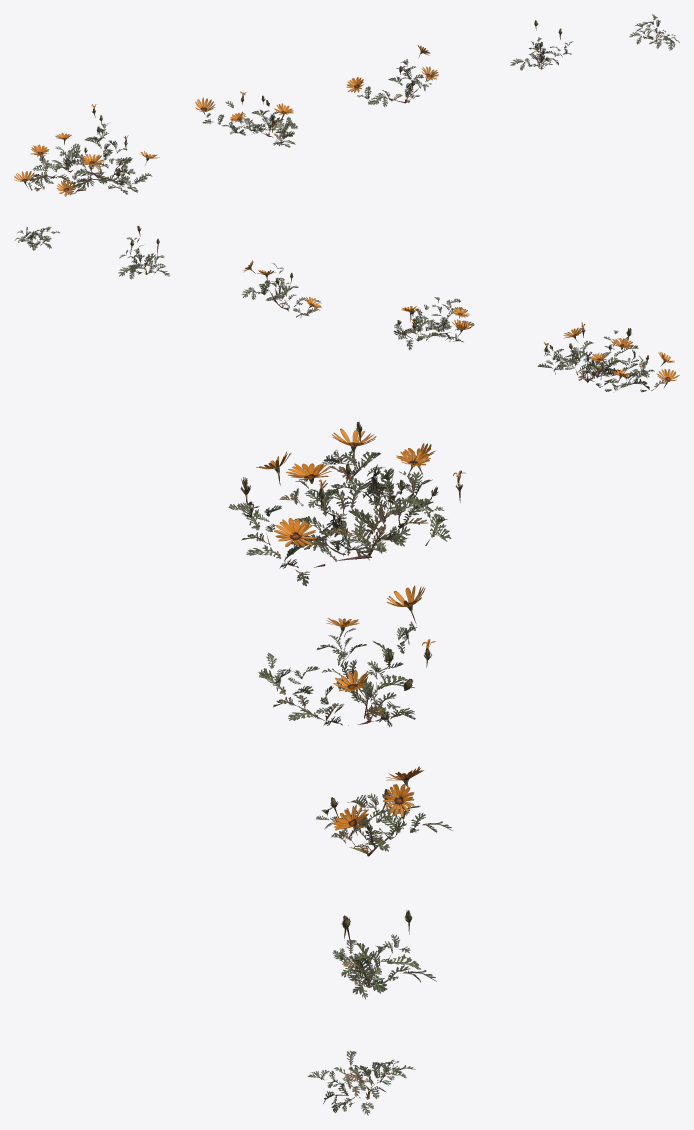
The model's file is flower_ursinia.glb.
3 views of the same model, one above another, from view 1: azimuth 30°, elevation 25°; view 2: azimuth 150°, elevation 25°; view 3: azimuth 270°, elevation 25° (orthographic). The views are drawn at different scales.
Parts seen in each view (by area): view 1: flower_ursinia_a_LOD0, flower_ursinia_b_LOD0, flower_ursinia_c_LOD0, flower_ursinia_d_LOD0, flower_ursinia_e_LOD0; view 2: flower_ursinia_a_LOD0, flower_ursinia_b_LOD0, flower_ursinia_c_LOD0, flower_ursinia_d_LOD0, flower_ursinia_e_LOD0; view 3: flower_ursinia_a_LOD0, flower_ursinia_b_LOD0, flower_ursinia_c_LOD0, flower_ursinia_d_LOD0, flower_ursinia_e_LOD0.
Part boxes in pixels (x1,y1,x2,y2): flower_ursinia_a_LOD0: [14, 104, 159, 196]; flower_ursinia_b_LOD0: [195, 91, 297, 147]; flower_ursinia_c_LOD0: [346, 45, 438, 106]; flower_ursinia_d_LOD0: [510, 20, 572, 70]; flower_ursinia_e_LOD0: [629, 14, 679, 50]; flower_ursinia_a_LOD0: [537, 322, 679, 392]; flower_ursinia_b_LOD0: [393, 297, 474, 350]; flower_ursinia_c_LOD0: [241, 260, 321, 318]; flower_ursinia_d_LOD0: [118, 226, 169, 279]; flower_ursinia_e_LOD0: [14, 226, 59, 250]; flower_ursinia_a_LOD0: [228, 422, 465, 586]; flower_ursinia_b_LOD0: [258, 585, 435, 727]; flower_ursinia_c_LOD0: [316, 766, 452, 856]; flower_ursinia_d_LOD0: [332, 910, 436, 999]; flower_ursinia_e_LOD0: [307, 1050, 415, 1115].
Size of the model in its own units: 2.19 by 0.1718 by 0.3433.
1 material, 1 textured.
